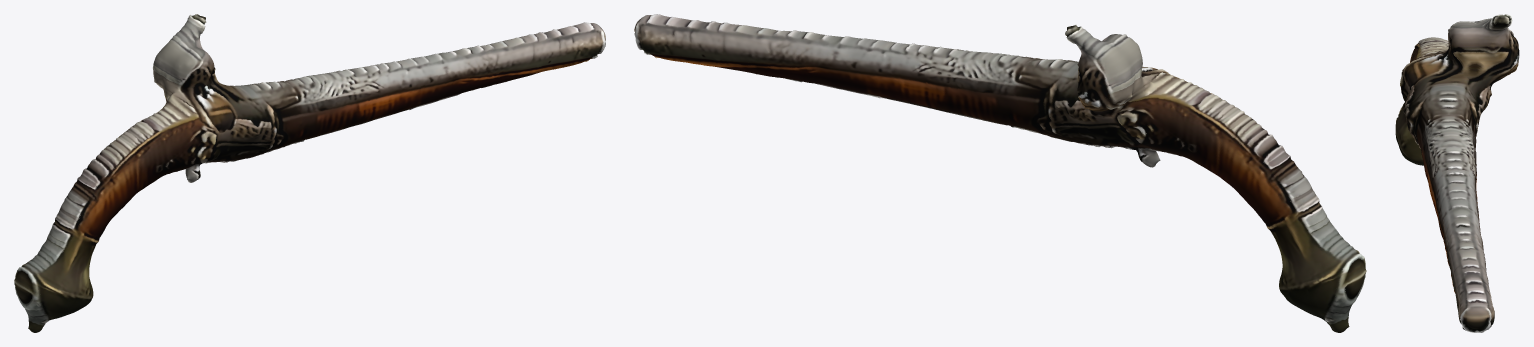
Rendered from kfl-2238.glb.
3 views of the same model, side by side, from view 1: azimuth 30°, elevation 25°; view 2: azimuth 150°, elevation 25°; view 3: azimuth 270°, elevation 25° (orthographic). The views are drawn at different scales.
Visible parts, largest first — view 1: kfl-2238; view 2: kfl-2238; view 3: kfl-2238.
Boxes of the visible parts, x1=… form: kfl-2238: x1=14, y1=14, x2=605, y2=332; kfl-2238: x1=634, y1=14, x2=1366, y2=332; kfl-2238: x1=1395, y1=14, x2=1519, y2=332.
Size of the model in its own units: 0.9931 by 0.3808 by 0.1717.
Materials: 1 (1 with a texture image).
